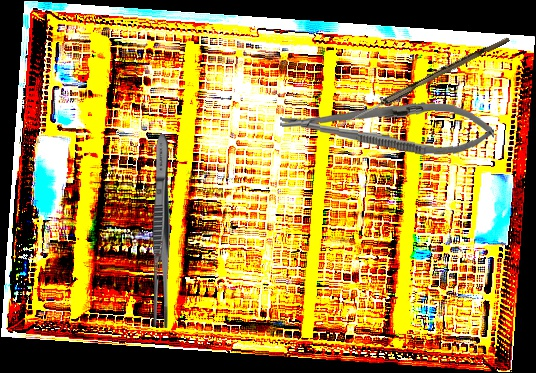Dressing Forceps: (152, 134, 171, 328)
Needle Holder: (278, 93, 496, 159)
Surgical Spoon: (338, 33, 511, 130)
